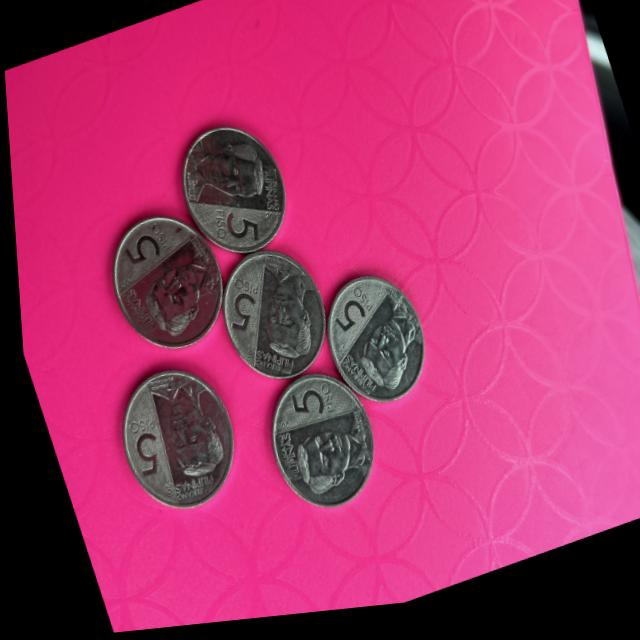5_New_Front: (210, 263, 281, 355), (309, 286, 380, 359), (109, 405, 169, 487), (108, 217, 178, 283), (197, 202, 262, 261), (271, 381, 338, 436)
